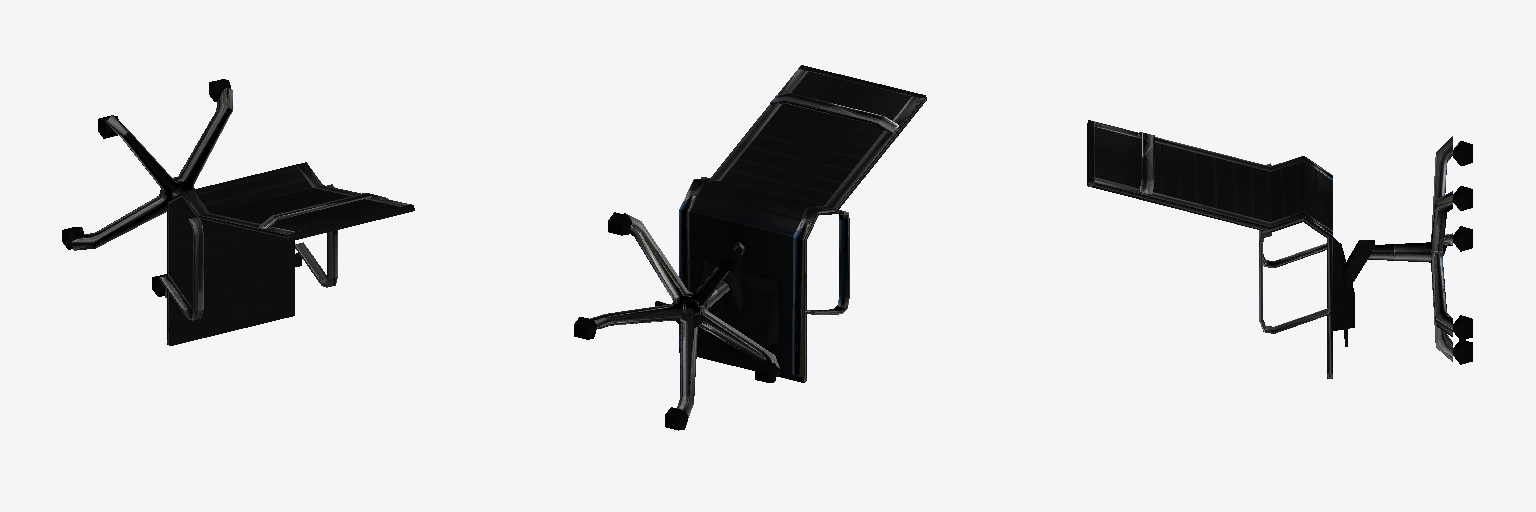
3 renders of one model, left to right at view 1: azimuth 30°, elevation 25°; view 2: azimuth 150°, elevation 25°; view 3: azimuth 270°, elevation 25°, orthographic.
Visible parts, largest first — view 1: OfficeChairBlack; view 2: OfficeChairBlack; view 3: OfficeChairBlack.
Boxes of the visible parts, <box> form: OfficeChairBlack: <box>62,79,414,345</box>; OfficeChairBlack: <box>574,65,926,430</box>; OfficeChairBlack: <box>1087,120,1472,378</box>.
Bounding box in the file's own units: 0.7355 × 0.7531 × 1.25.
1 materials, 1 textured.